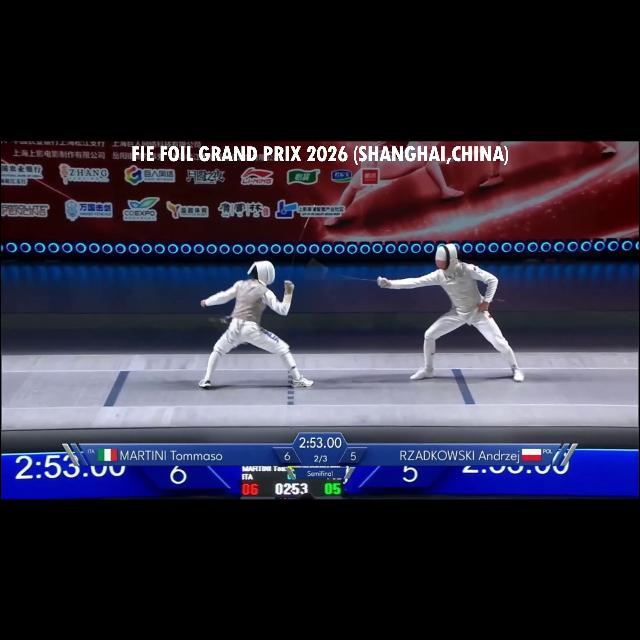blade: (282, 198, 324, 292), (306, 256, 388, 290)
